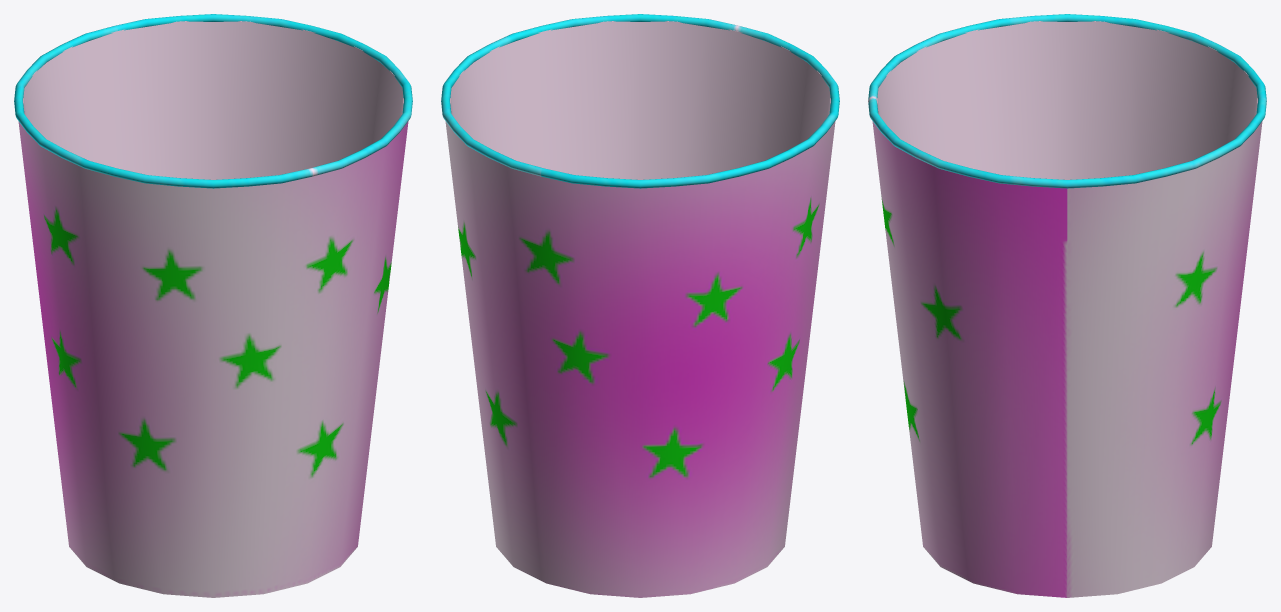
Rendered from cylinder_val_amber_plaster_c1.dae.
3 views of the same model, side by side, from view 1: azimuth 30°, elevation 25°; view 2: azimuth 150°, elevation 25°; view 3: azimuth 270°, elevation 25° (orthographic).
Visible parts, largest first — view 1: aws_Trash_01_visual; view 2: aws_Trash_01_visual; view 3: aws_Trash_01_visual.
Boxes of the visible parts, x1,y1,x2,y2 form: aws_Trash_01_visual: (14,14,412,597); aws_Trash_01_visual: (441,14,839,597); aws_Trash_01_visual: (868,14,1266,597).
Bounding box in the file's own units: 28.5 × 28.28 × 34.34.
1 material, 1 textured.
